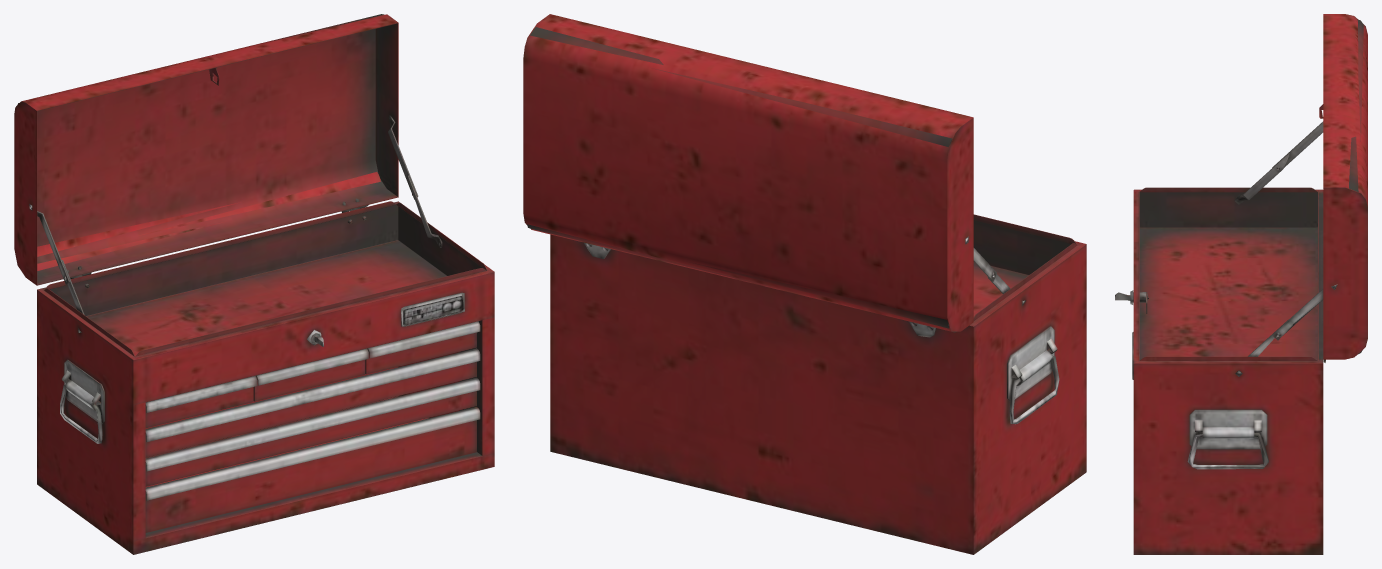
The model's file is metal_tool_chest.slim.glb.
3 views of the same model, side by side, from view 1: azimuth 30°, elevation 25°; view 2: azimuth 150°, elevation 25°; view 3: azimuth 270°, elevation 25° (orthographic). The views are drawn at different scales.
Size of the model in its own units: 0.6854 by 0.6518 by 0.4063.
1 material, 1 textured.
